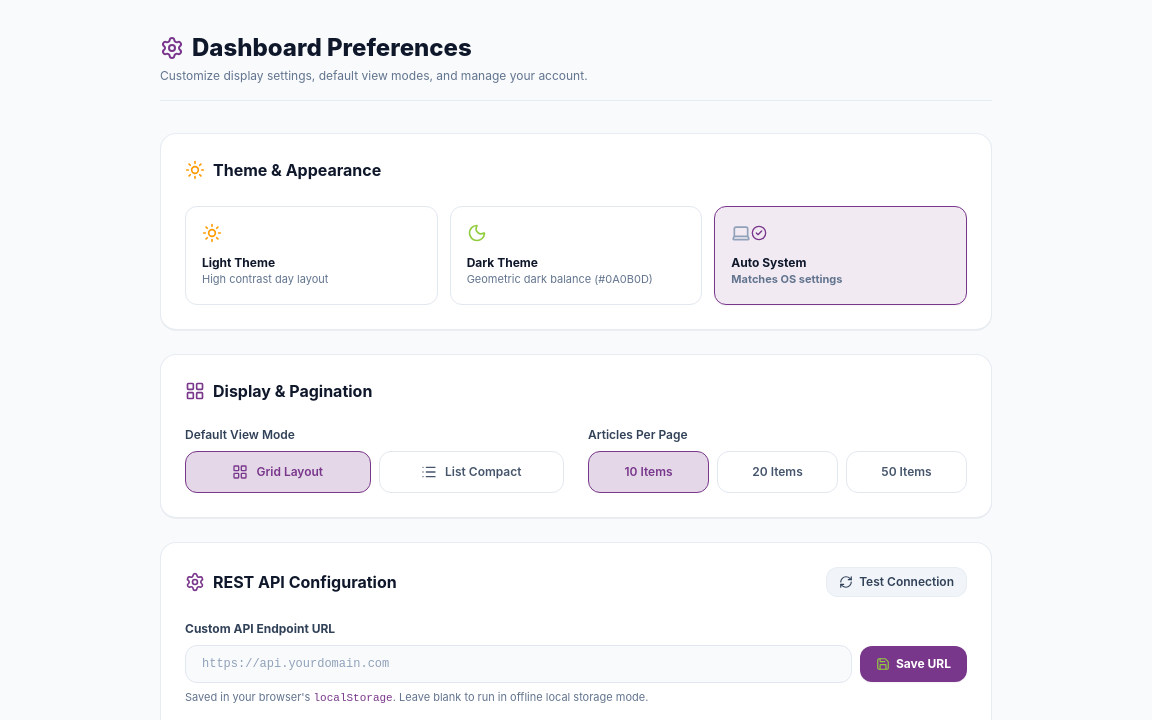
Test case: PreferencesPage › saves a custom API URL and shows a success toast
Type "https://api.example.com" into the field with placeholder "https://api.yourdomain.com" at x=518, y=664, box left=185, top=644, right=852, bottom=682
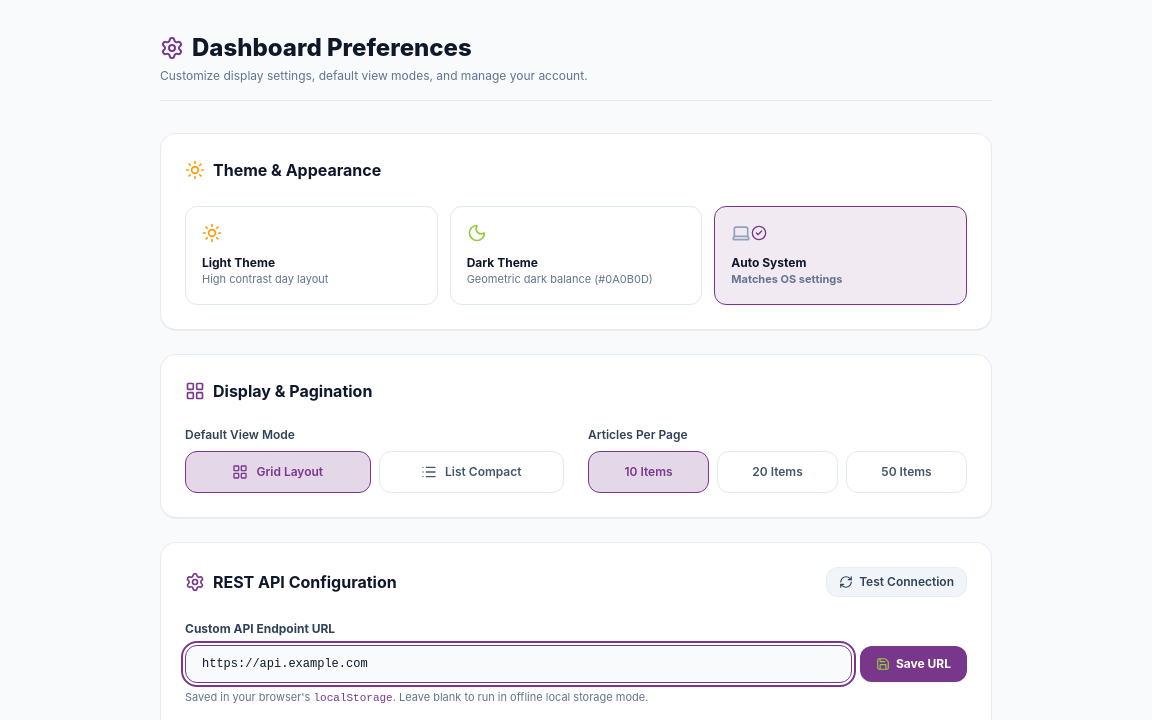
Click the button "Save URL" at x=914, y=664, box left=860, top=646, right=967, bottom=682
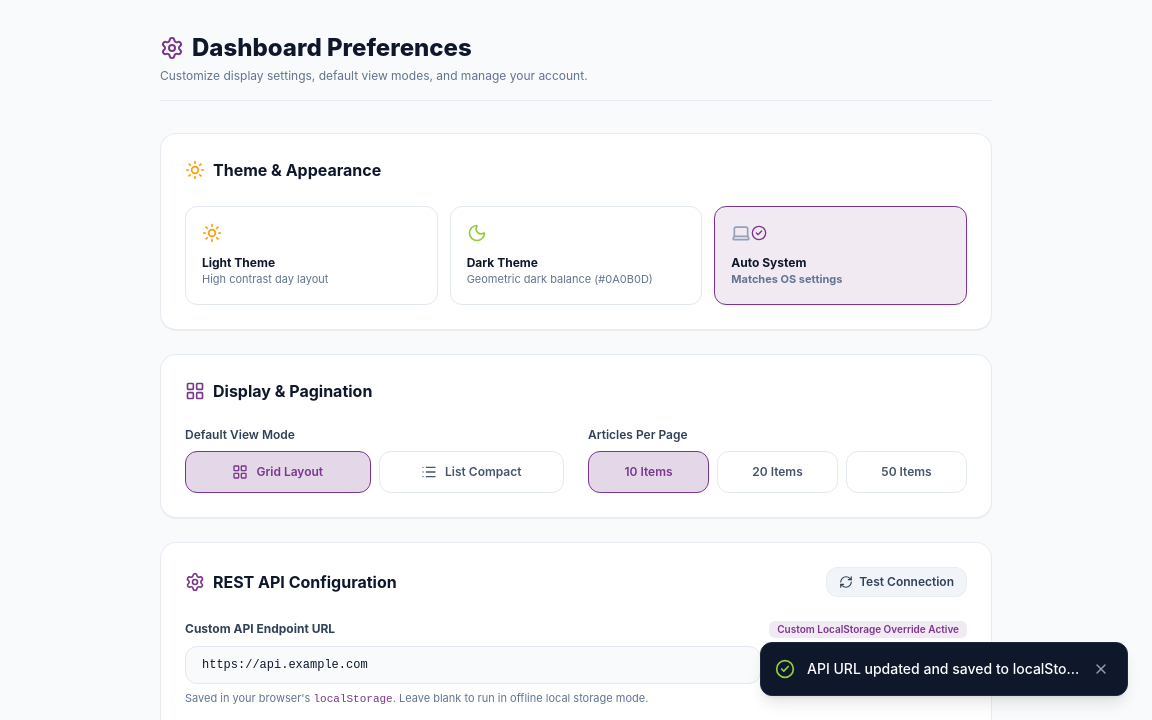
Result: the text "API URL updated and saved to localStorage" is shown at left=807, top=659, right=1081, bottom=679
